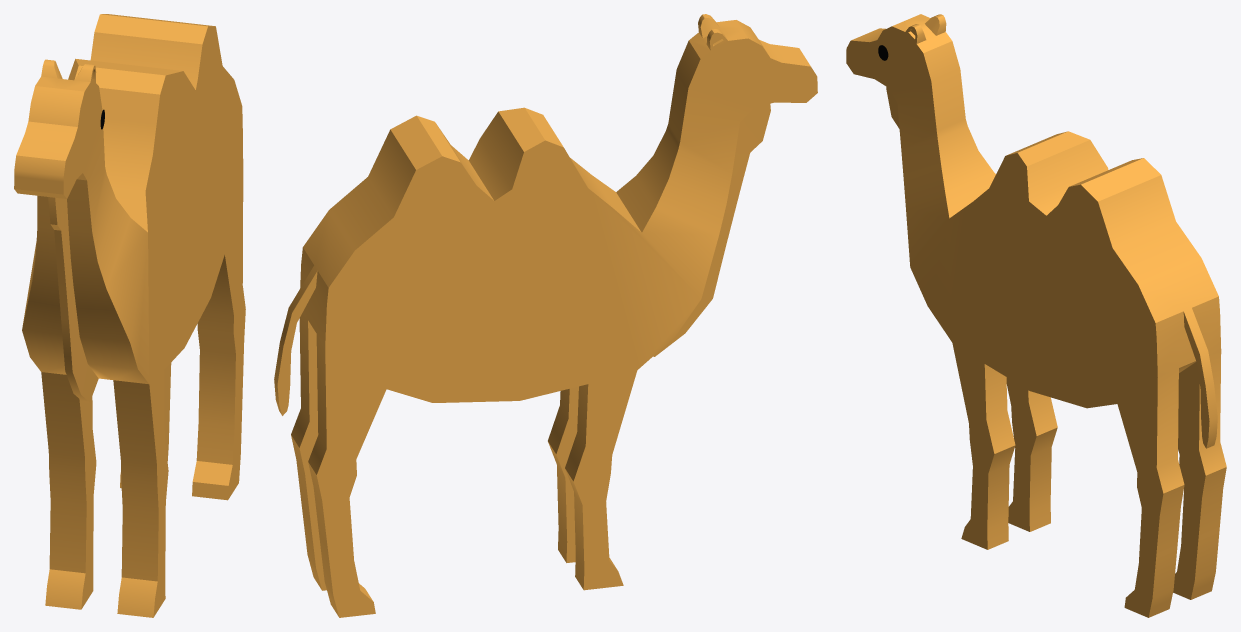
File: two_hump_camel.glb
3 views of the same model, side by side, from view 1: azimuth 30°, elevation 25°; view 2: azimuth 150°, elevation 25°; view 3: azimuth 270°, elevation 25° (orthographic). The views are drawn at different scales.
Parts seen in each view (by area): view 1: Plane.127; view 2: Plane.127; view 3: Plane.127.
Part boxes in pixels (bbox=[...]): Plane.127: bbox=[14, 14, 245, 617]; Plane.127: bbox=[274, 14, 817, 617]; Plane.127: bbox=[846, 14, 1226, 617].
Size of the model in its own units: 1.53 by 2.11 by 1.53.
Materials: 1 (1 with a texture image).
